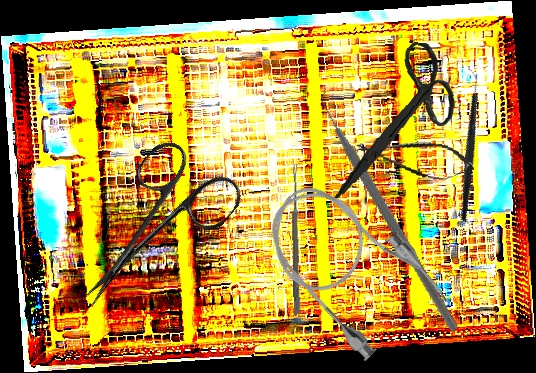Cannula: (246, 159, 456, 371)
Chopper: (252, 80, 532, 332), (408, 67, 527, 223)
Iris Scissors: (49, 128, 249, 338), (333, 36, 461, 208)
Micro Scissor: (352, 129, 478, 187)
Surgical Spoon: (291, 164, 301, 315)
